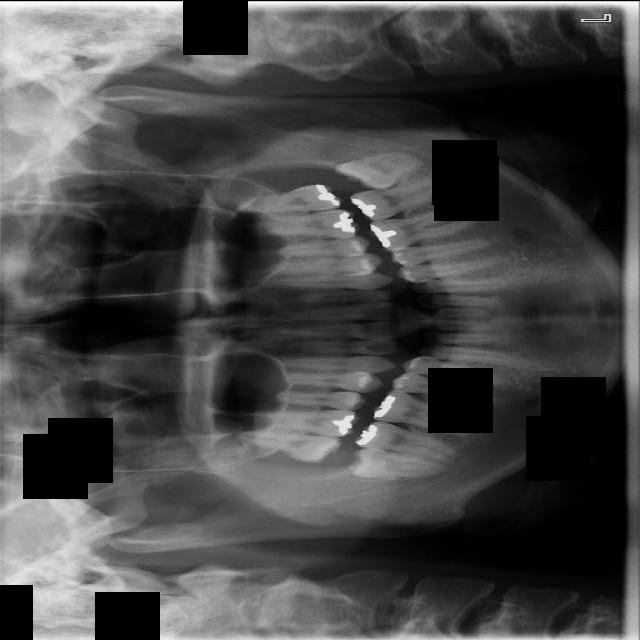52: (348, 178, 402, 228), (353, 413, 407, 459), (366, 209, 418, 256), (370, 387, 424, 423), (312, 207, 361, 241), (311, 407, 362, 438), (332, 249, 384, 279), (333, 368, 384, 394), (291, 184, 344, 209), (347, 336, 398, 357), (401, 353, 448, 375), (329, 234, 372, 257), (391, 371, 436, 392), (389, 244, 428, 267), (395, 263, 439, 283)
BioHorizons Implant: (233, 182, 345, 214)
Biomet 3i Implant: (332, 144, 424, 199)
Blue Sky Bio Implant: (349, 172, 455, 225)
Caries: (212, 426, 344, 464)
Implant: (353, 415, 460, 465)
Keystone Dental Implant: (348, 447, 449, 477)
